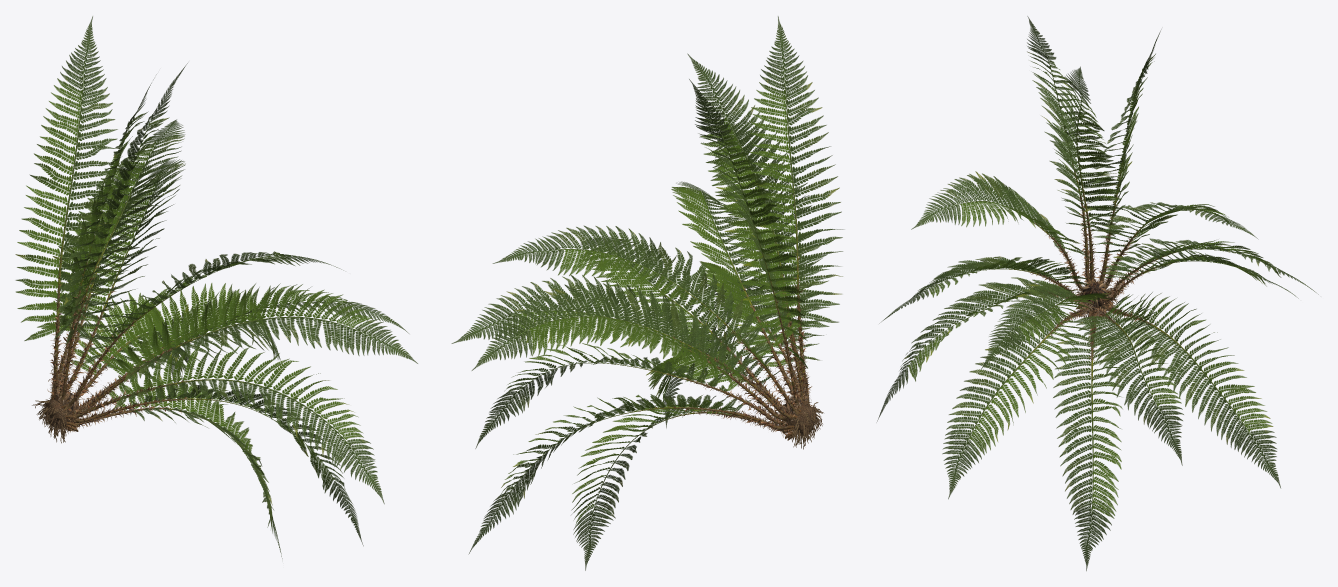
3 views of the same model, side by side, from view 1: azimuth 30°, elevation 25°; view 2: azimuth 150°, elevation 25°; view 3: azimuth 270°, elevation 25° (orthographic). The views are drawn at different scales.
Visible parts, largest first — view 1: Dryopteris_filix_mas_HD; view 2: Dryopteris_filix_mas_HD; view 3: Dryopteris_filix_mas_HD.
Boxes of the visible parts, x1,y1,x2,y2 form: Dryopteris_filix_mas_HD: (15,16,417,558); Dryopteris_filix_mas_HD: (451,16,843,570); Dryopteris_filix_mas_HD: (877,16,1318,570).
Size of the model in its own units: 0.9132 by 1.58 by 1.31.
Materials: 10 (10 with a texture image).
